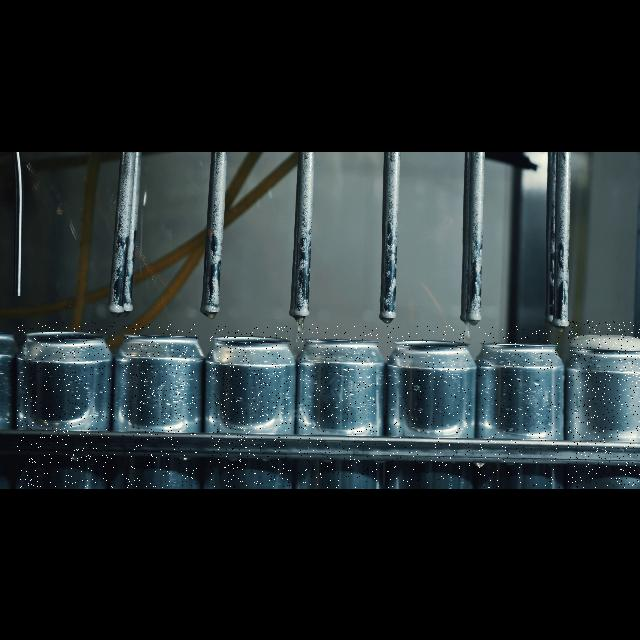empty: (17, 322, 115, 488), (386, 324, 470, 488), (209, 326, 291, 488), (478, 326, 560, 488), (298, 324, 378, 488), (122, 324, 198, 488), (568, 320, 640, 488)
